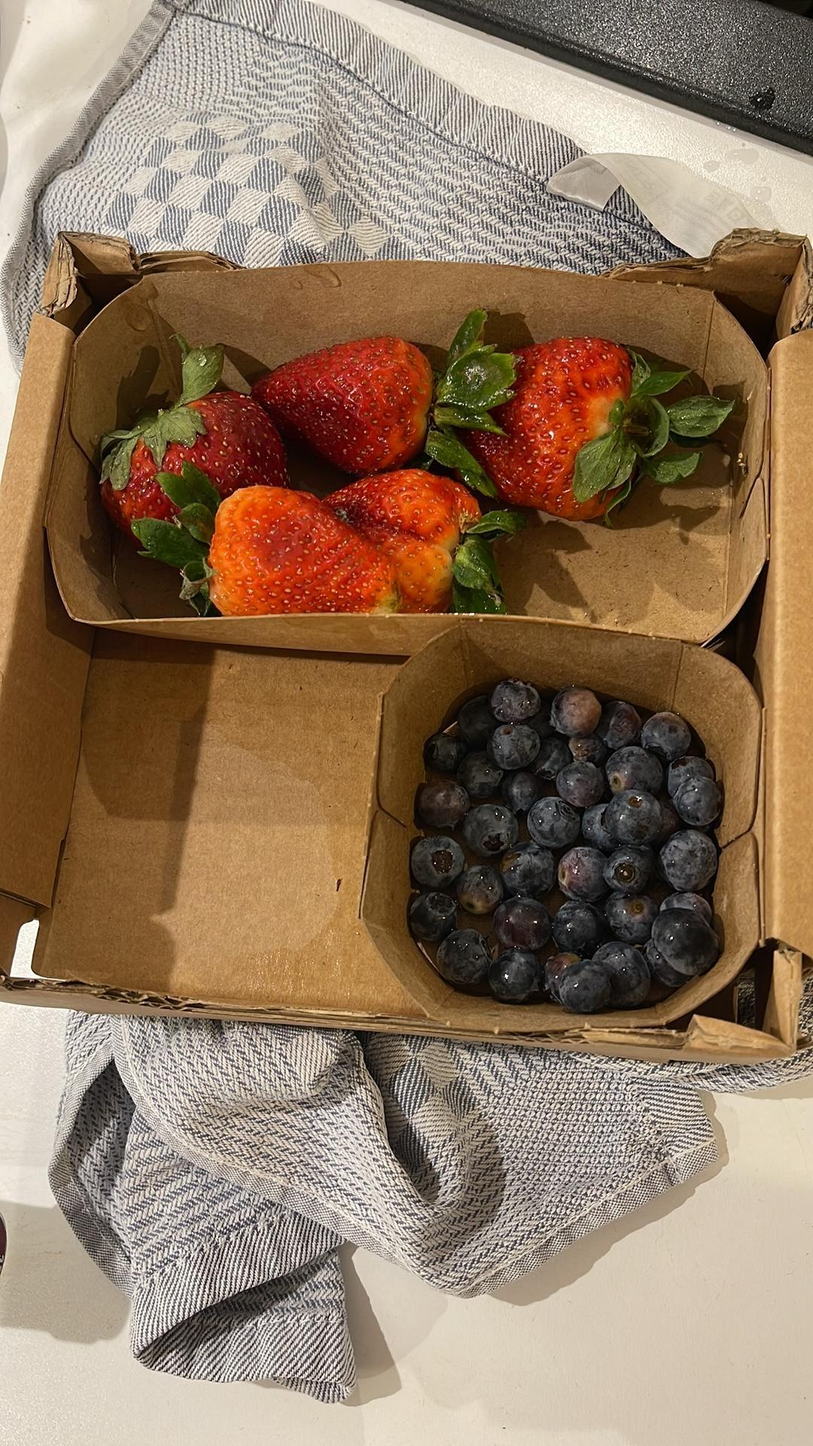blueberry: (652, 910, 724, 981), (436, 927, 497, 987), (606, 787, 664, 850), (490, 894, 551, 952), (594, 940, 646, 1007), (660, 826, 714, 889), (486, 945, 545, 1001), (413, 777, 469, 832), (461, 801, 519, 854), (411, 833, 466, 888), (501, 839, 553, 896), (552, 896, 604, 952), (604, 886, 655, 941), (528, 794, 581, 845), (411, 890, 461, 943), (608, 743, 662, 792), (560, 961, 612, 1011), (556, 846, 606, 898), (485, 724, 542, 768), (553, 755, 603, 805), (455, 862, 506, 911), (550, 687, 602, 735), (643, 709, 691, 756), (489, 679, 541, 722), (419, 725, 466, 772), (604, 843, 649, 892), (453, 688, 494, 740), (529, 735, 577, 779), (597, 702, 641, 748), (460, 749, 501, 798), (663, 755, 715, 793), (544, 949, 582, 1000), (501, 767, 543, 813), (566, 725, 614, 764), (675, 781, 720, 822), (584, 797, 615, 850), (660, 893, 713, 918)
strawberry: (464, 332, 699, 523), (93, 363, 295, 550), (248, 325, 477, 477), (157, 480, 402, 618), (315, 464, 494, 614)
